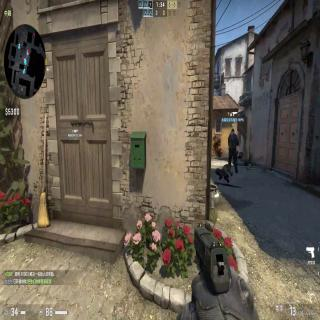CT-Body: (228, 128, 240, 175)
CT-Head: (230, 129, 235, 133)
